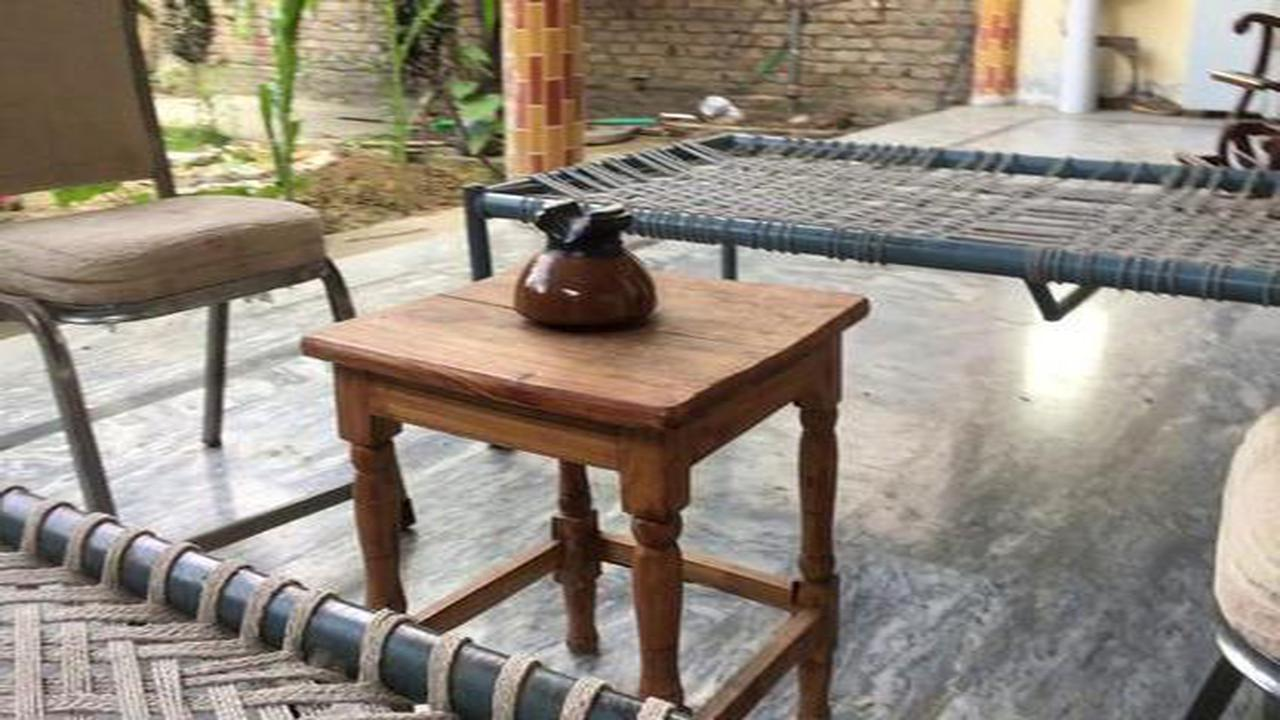insulator_pin: (508, 179, 671, 340)
